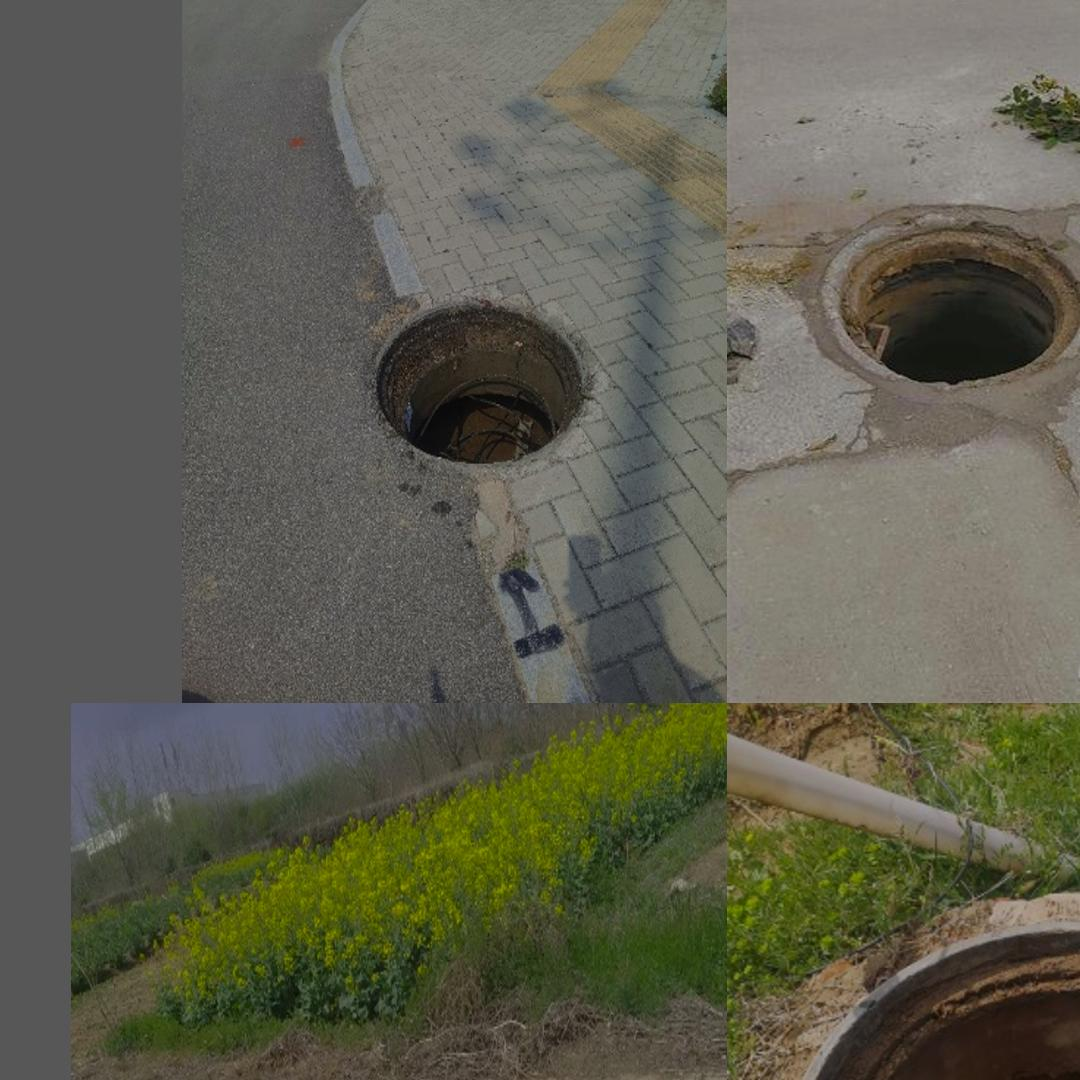lose: (795, 198, 1080, 402), (779, 916, 1080, 1080), (369, 296, 589, 466)
